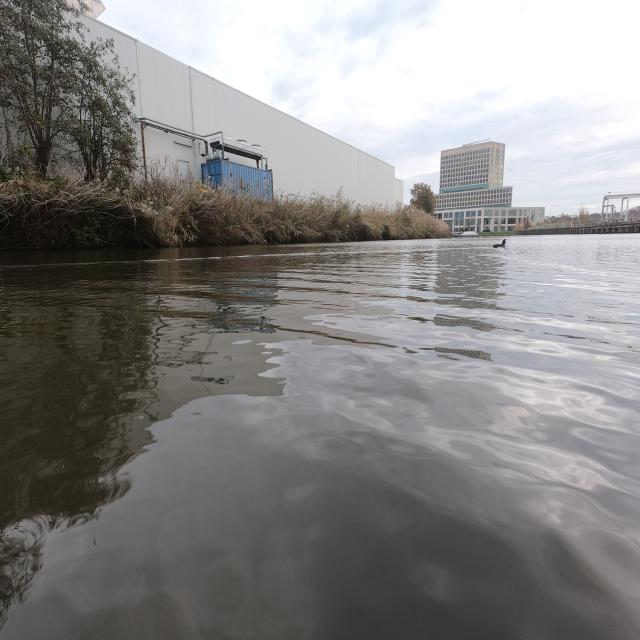reed: (0, 167, 449, 249)
sky: (94, 4, 638, 214)
tree: (2, 2, 134, 186)
water: (0, 236, 640, 640)
